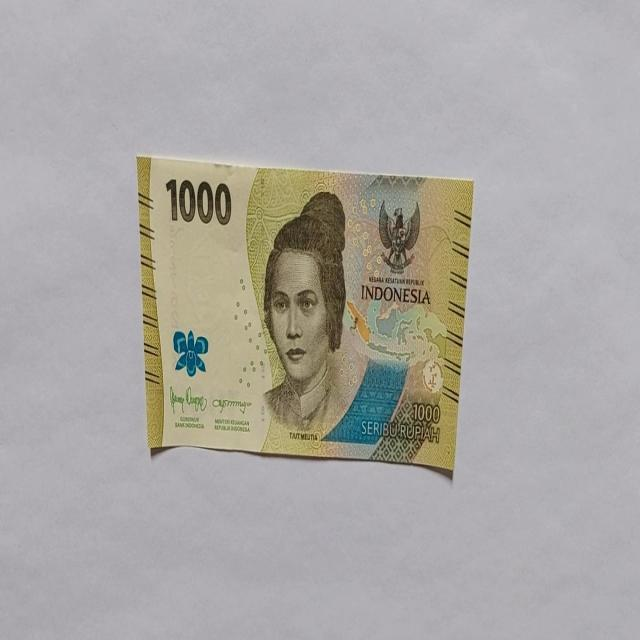seribu rupiah kertas: (136, 152, 474, 476)
